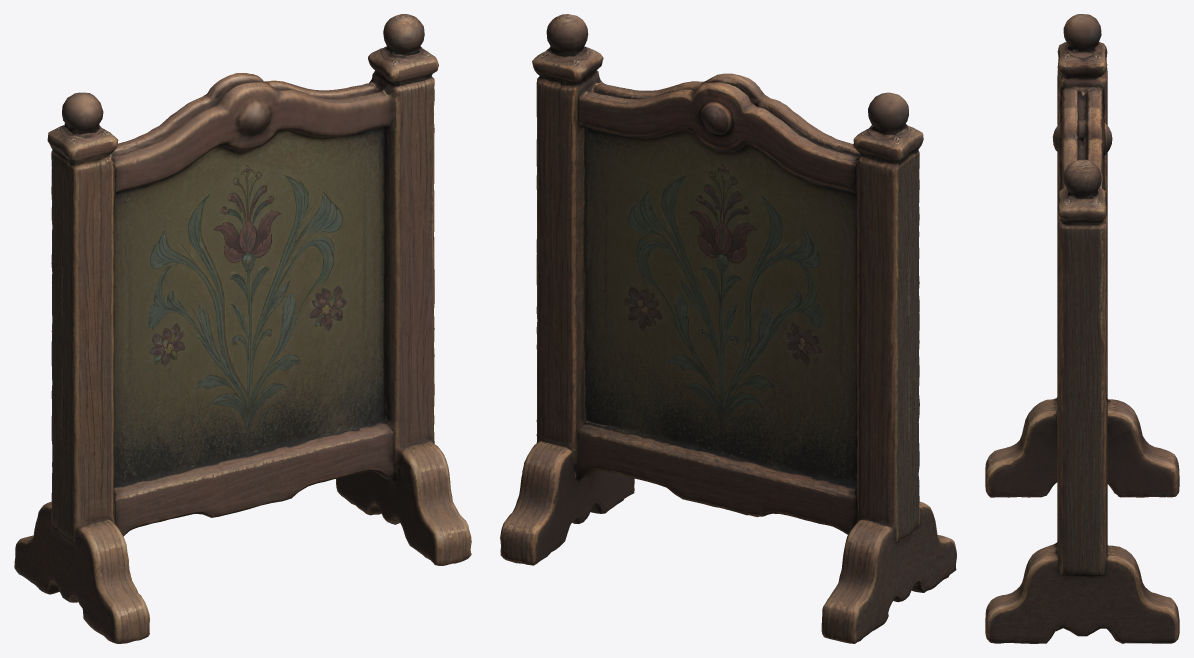
File: Furn_FireScreen.fbx
3 renders of one model, left to right at view 1: azimuth 30°, elevation 25°; view 2: azimuth 150°, elevation 25°; view 3: azimuth 270°, elevation 25°, orthographic. The views are drawn at different scales.
Visible parts, largest first — view 1: texture_mapping; view 2: texture_mapping; view 3: texture_mapping.
Boxes of the visible parts, x1,y1,x2,y2 form: texture_mapping: (14,14,471,643); texture_mapping: (500,14,956,643); texture_mapping: (985,14,1179,643).
Bounding box in the file's own units: 0.7594 × 0.3699 × 0.9988.
1 material, 1 textured.
